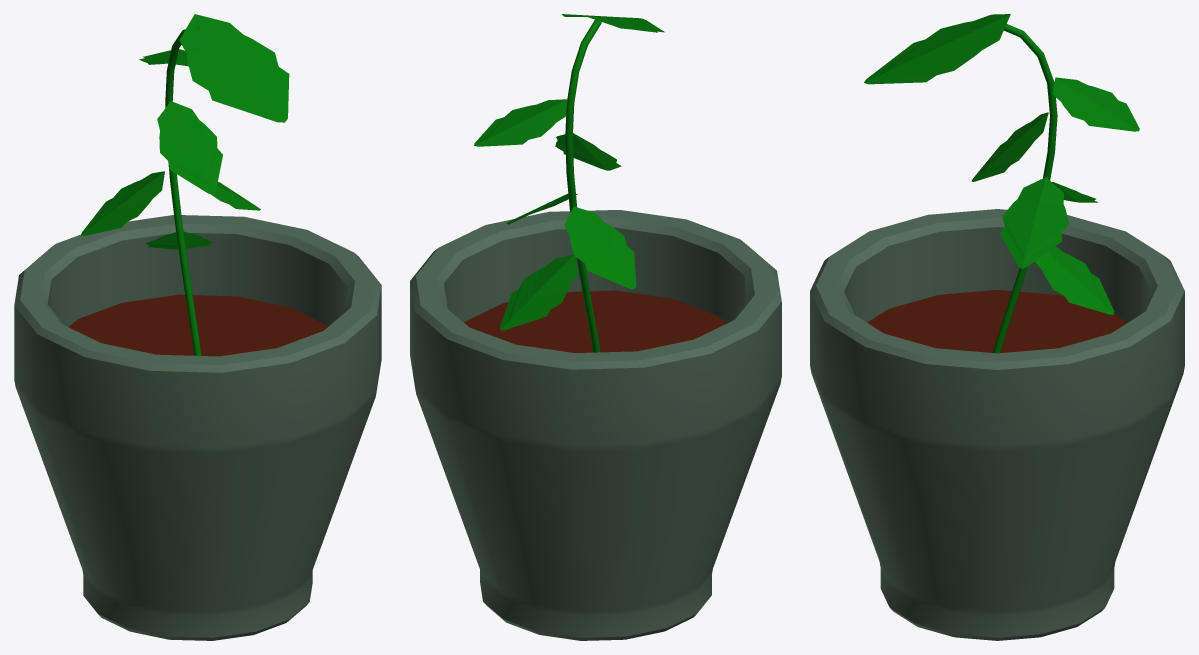
The model's file is pottedPlant.glb.
3 views of the same model, side by side, from view 1: azimuth 30°, elevation 25°; view 2: azimuth 150°, elevation 25°; view 3: azimuth 270°, elevation 25° (orthographic).
Visible parts, largest first — view 1: plant, Plane.003, Plane, leaf, BézierCurve, Plane.001, Plane.005; view 2: plant, leaf, Plane.001, Plane.002, BézierCurve, Plane, Plane.003; view 3: plant, Plane.003, Plane.005, Plane.002, Plane.001, BézierCurve, Plane.
Boxes of the visible parts, left/top/right/bottom form: plant: left=14, top=215, right=381, bottom=640; Plane.003: left=179, top=14, right=289, bottom=122; Plane: left=157, top=101, right=222, bottom=194; leaf: left=81, top=171, right=164, bottom=235; BézierCurve: left=165, top=27, right=201, bottom=355; Plane.001: left=145, top=231, right=212, bottom=249; Plane.005: left=211, top=182, right=260, bottom=210; plant: left=410, top=210, right=781, bottom=640; leaf: left=564, top=206, right=636, bottom=289; Plane.001: left=499, top=254, right=578, bottom=330; Plane.002: left=474, top=99, right=567, bottom=146; BézierCurve: left=565, top=18, right=601, bottom=352; Plane: left=555, top=133, right=621, bottom=170; Plane.003: left=562, top=14, right=664, bottom=32; plant: left=810, top=209, right=1184, bottom=640; Plane.003: left=864, top=14, right=1010, bottom=84; Plane.005: left=1000, top=177, right=1068, bottom=268; Plane.002: left=1052, top=77, right=1139, bottom=131; Plane.001: left=1035, top=246, right=1114, bottom=314; BézierCurve: left=992, top=18, right=1057, bottom=353; Plane: left=971, top=112, right=1048, bottom=181.
Size of the model in its own units: 8.89 by 15.22 by 8.89.
